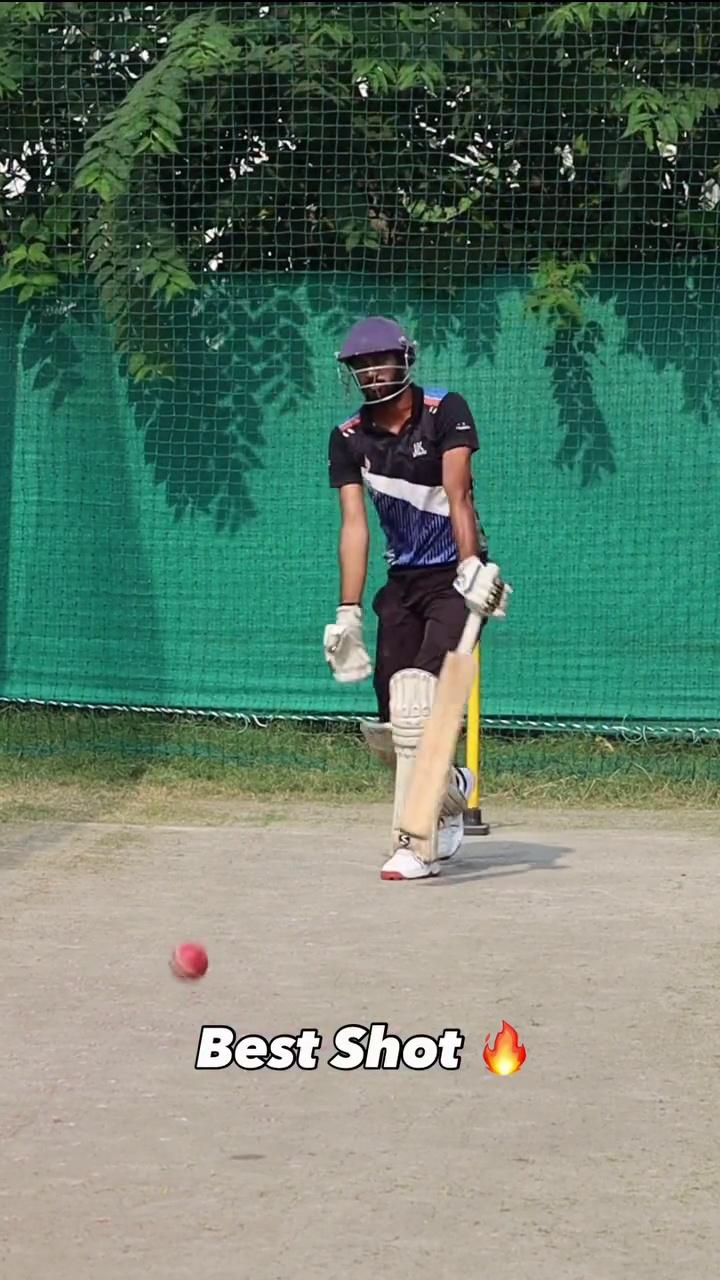bat: (393, 647, 481, 843)
